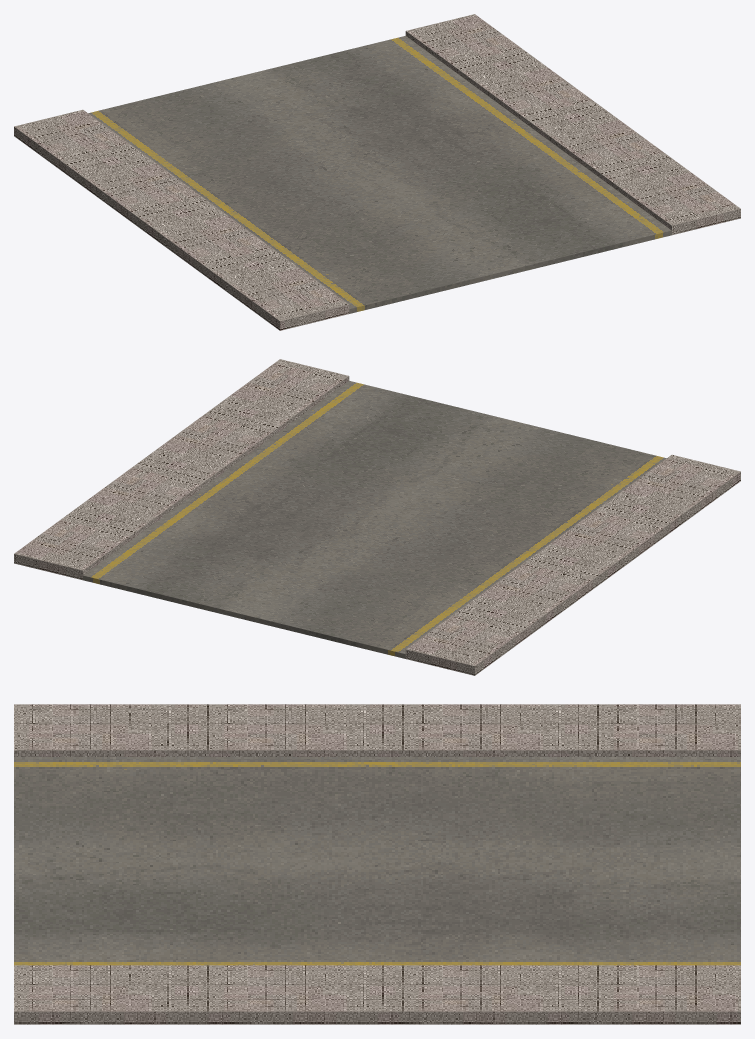
Rendered from road_2_straight.glb.
The picture shows the model from 3 angles, top to bottom: view 1: azimuth 30°, elevation 25°; view 2: azimuth 150°, elevation 25°; view 3: azimuth 270°, elevation 25°; orthographic projection. The views are drawn at different scales.
Parts seen in each view (by area): view 1: road_2_straight; view 2: road_2_straight; view 3: road_2_straight.
Boxes of the visible parts, bbox=[...] form: road_2_straight: bbox=[14, 14, 740, 330]; road_2_straight: bbox=[14, 359, 740, 675]; road_2_straight: bbox=[14, 704, 740, 1024].
Size of the model in its own units: 16 by 0.32 by 16.
Materials: 2 (2 with a texture image).
